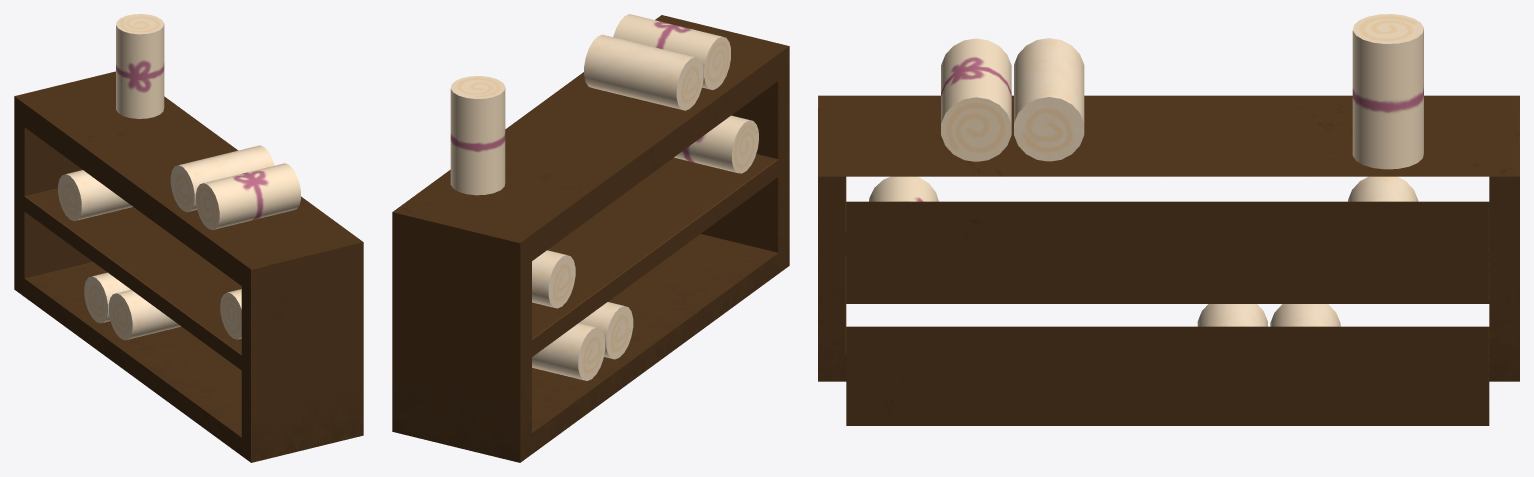
Rendered from Shelf2.fbx.
3 views of the same model, side by side, from view 1: azimuth 30°, elevation 25°; view 2: azimuth 150°, elevation 25°; view 3: azimuth 270°, elevation 25° (orthographic). The views are drawn at different scales.
Parts seen in each view (by area): view 1: Shelf, RollTowel005, RollTowel2, RollTowel1, RollTowel003, RollTowel007, RollTowel006, RollTowel004; view 2: Shelf, RollTowel005, RollTowel1, RollTowel2, RollTowel004, RollTowel006, RollTowel003, RollTowel007; view 3: Shelf, RollTowel005, RollTowel1, RollTowel2, RollTowel003, RollTowel007, RollTowel004, RollTowel006.
Boxes of the visible parts, bbox=[...] form: Shelf: bbox=[14, 71, 363, 462]; RollTowel005: bbox=[116, 14, 164, 118]; RollTowel2: bbox=[195, 163, 300, 229]; RollTowel1: bbox=[170, 145, 274, 212]; RollTowel003: bbox=[58, 170, 132, 221]; RollTowel007: bbox=[108, 290, 180, 340]; RollTowel006: bbox=[84, 272, 130, 323]; RollTowel004: bbox=[220, 289, 241, 339]; Shelf: bbox=[392, 15, 789, 462]; RollTowel005: bbox=[450, 76, 505, 195]; RollTowel1: bbox=[584, 34, 703, 110]; RollTowel2: bbox=[613, 14, 730, 89]; RollTowel004: bbox=[674, 115, 758, 173]; RollTowel006: bbox=[532, 323, 605, 380]; RollTowel003: bbox=[532, 250, 575, 308]; RollTowel007: bbox=[579, 302, 633, 359]; Shelf: bbox=[818, 95, 1519, 425]; RollTowel005: bbox=[1352, 14, 1423, 169]; RollTowel1: bbox=[1014, 38, 1084, 161]; RollTowel2: bbox=[941, 38, 1011, 161]; RollTowel003: bbox=[1348, 176, 1418, 201]; RollTowel007: bbox=[1197, 304, 1267, 326]; RollTowel004: bbox=[869, 176, 938, 201]; RollTowel006: bbox=[1270, 304, 1340, 326].
Bounding box in the file's own units: 6.8 × 16.07 × 24.83.
Materials: 3 (3 with a texture image).
